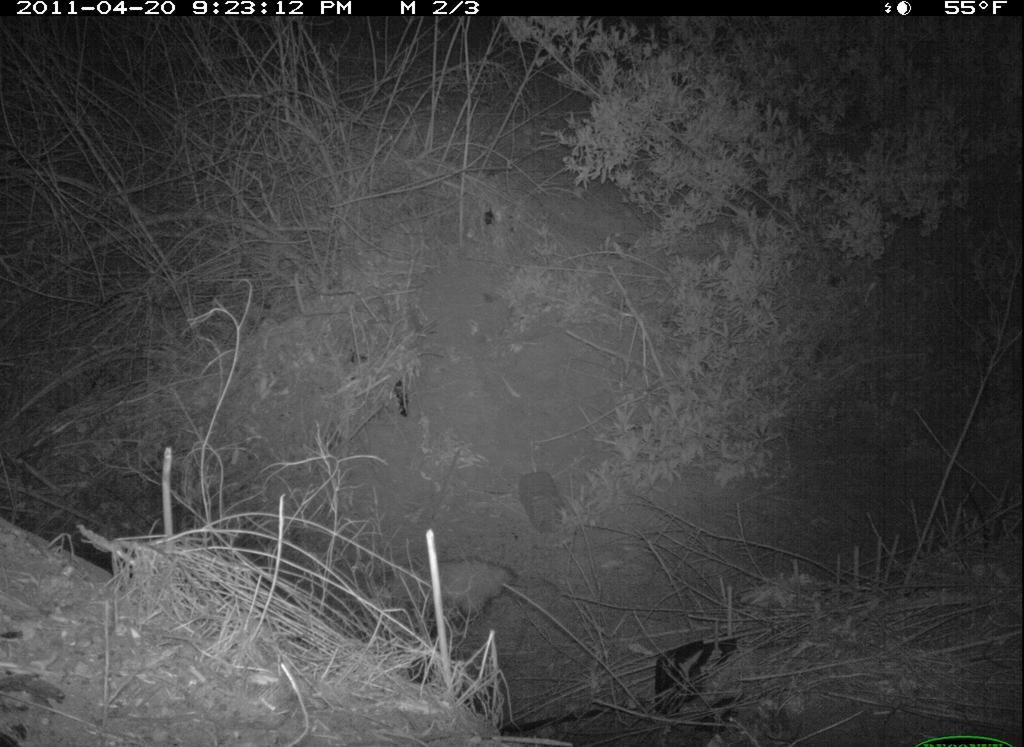opossum: (358, 548, 525, 639)
